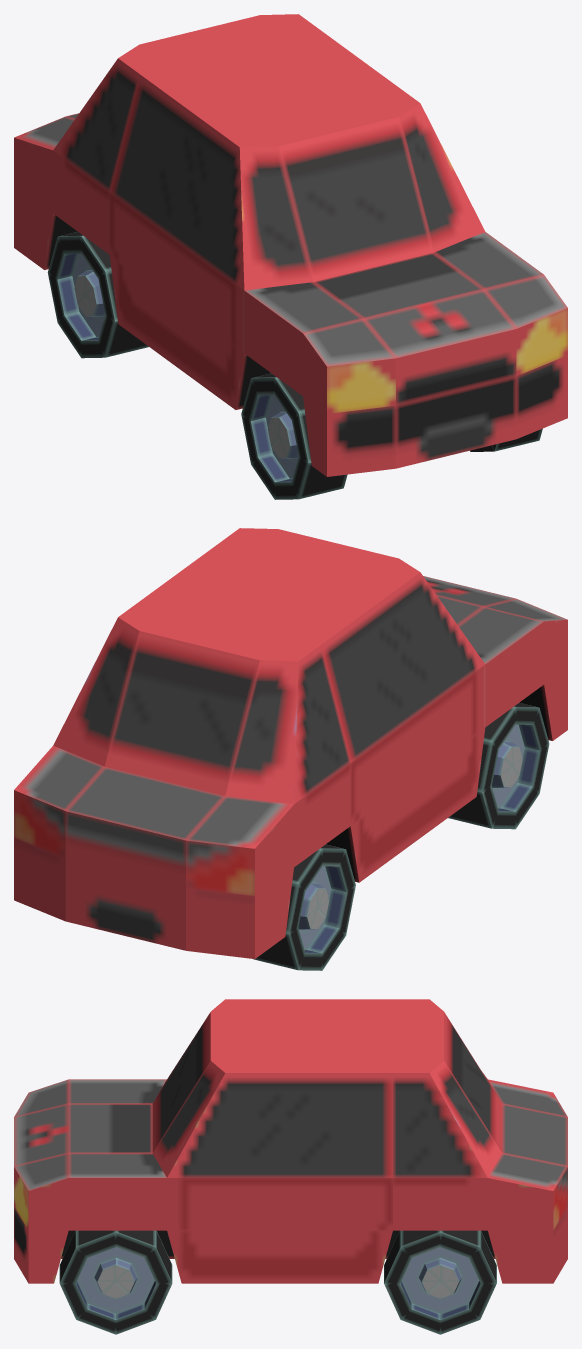
The model's file is car.fbx.
The picture shows the model from 3 angles, top to bottom: view 1: azimuth 30°, elevation 25°; view 2: azimuth 150°, elevation 25°; view 3: azimuth 270°, elevation 25°; orthographic projection. The views are drawn at different scales.
Visible parts, largest first — view 1: Body, Roda; view 2: Body, Roda; view 3: Body, Roda.
Boxes of the visible parts, x1,y1,x2,y2 form: Body: (14, 14, 567, 476); Roda: (47, 232, 542, 499); Body: (14, 528, 567, 958); Roda: (253, 702, 549, 970); Body: (14, 999, 567, 1283); Roda: (59, 1230, 496, 1334).
Size of the model in its own units: 268 by 316 by 636.
Materials: 2 (2 with a texture image).
